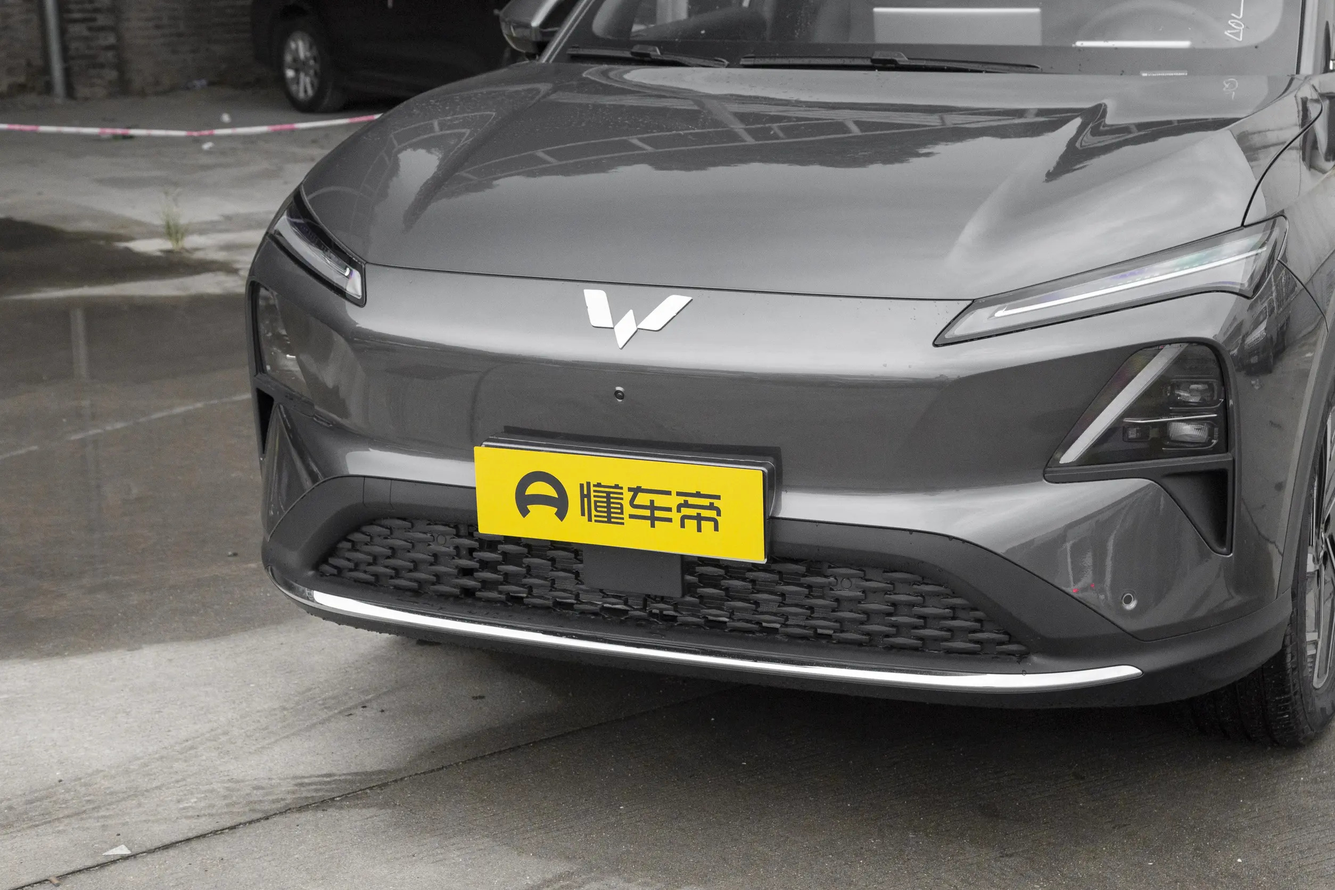SGMW: (584, 289, 693, 349)
